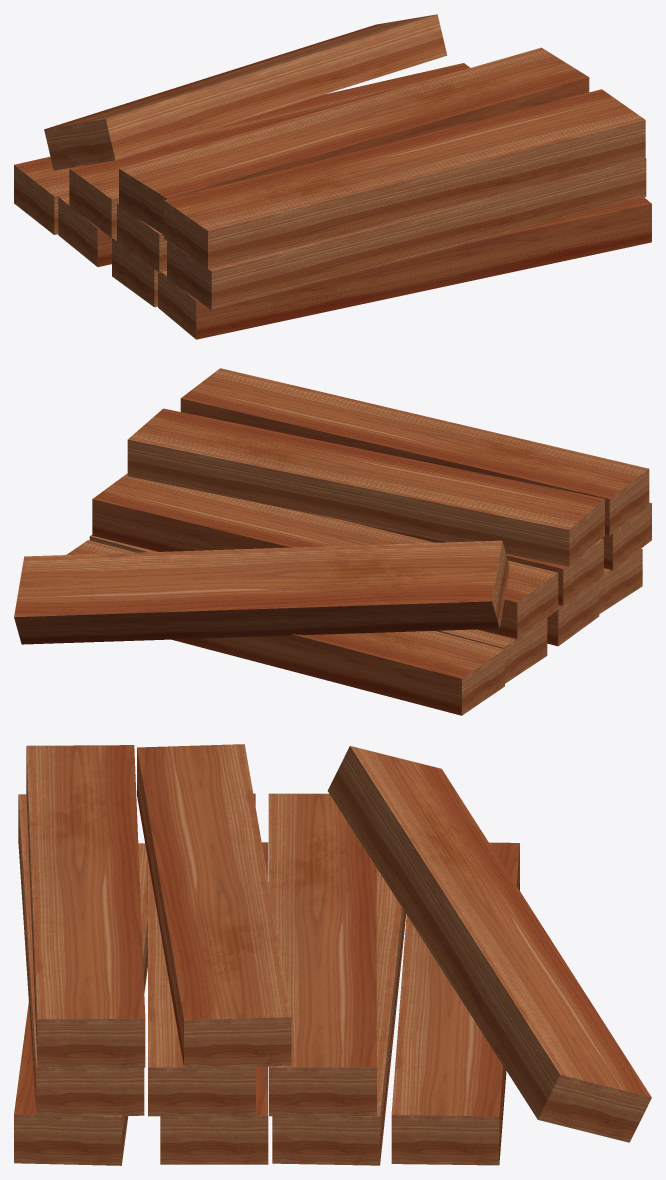
File: plankPile2.fbx
3 renders of one model, top to bottom at view 1: azimuth 30°, elevation 25°; view 2: azimuth 150°, elevation 25°; view 3: azimuth 270°, elevation 25°, orthographic. The views are drawn at different scales.
Visible parts, largest first — view 1: plank10; view 2: plank10; view 3: plank10.
Part boxes in pixels (left/top/right/bottom): plank10: left=14, top=14, right=651, bottom=339; plank10: left=14, top=368, right=651, bottom=715; plank10: left=14, top=744, right=651, bottom=1165.
Bounding box in the file's own units: 24.23 × 6.6 × 23.64.
1 material, 1 textured.
